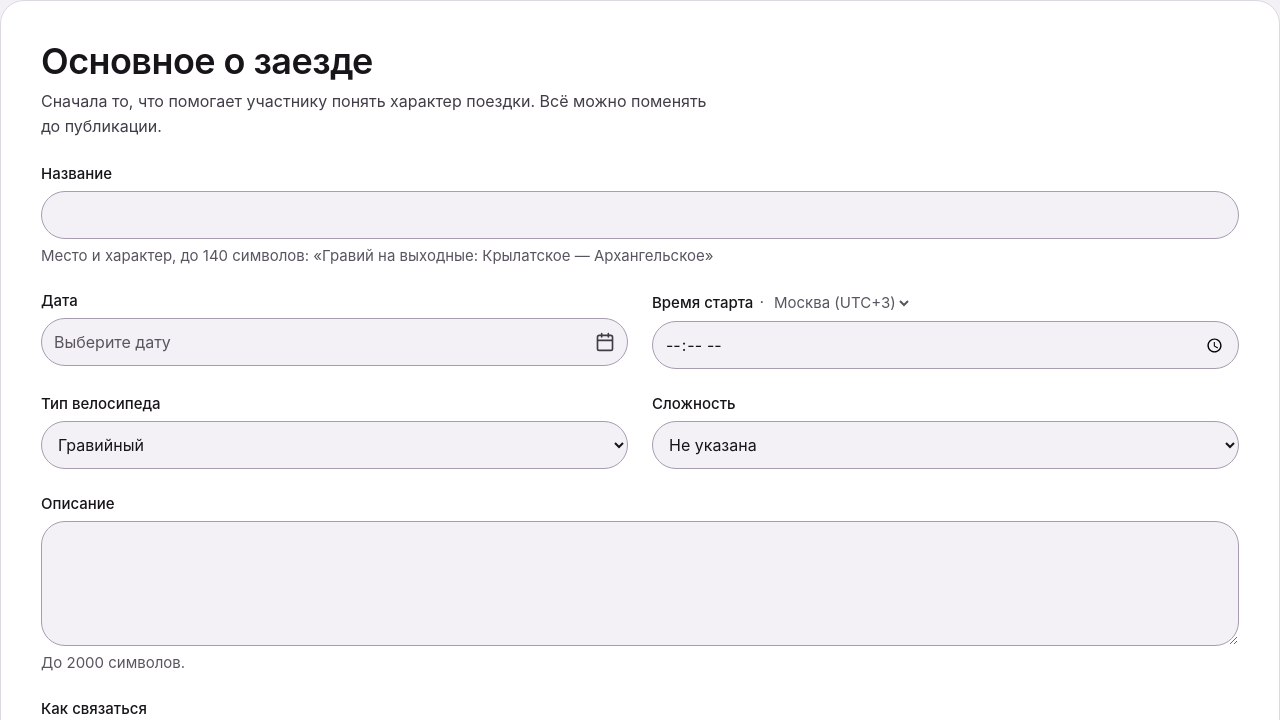
it: CreateRideForm › maps a server validation error onto the matching field
This screenshot has width=1280, height=720.
Type "Утренний гравийный заезд" into the field labelled "Название".
click(640, 215); type("Утренний гравийный заезд")  # box [41, 191, 1239, 239]
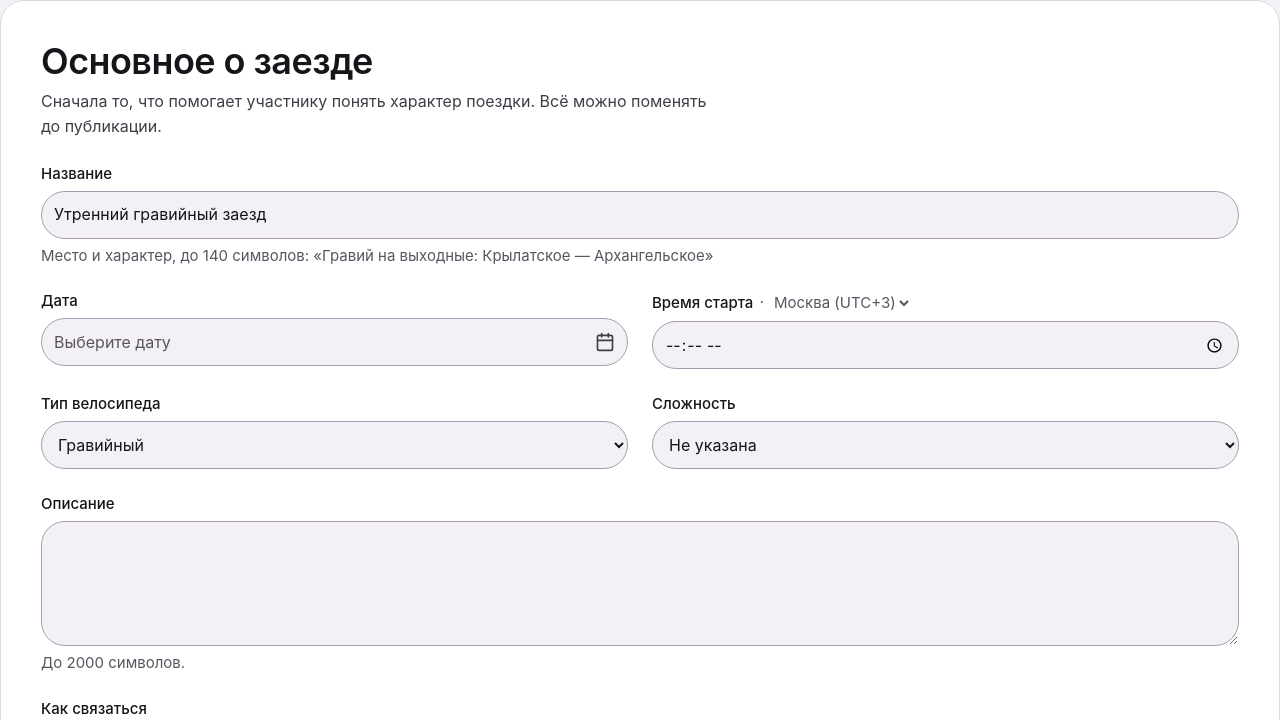
Click the button named "Дата".
click(112, 342)  # box [41, 318, 628, 366]
(page scrolled)
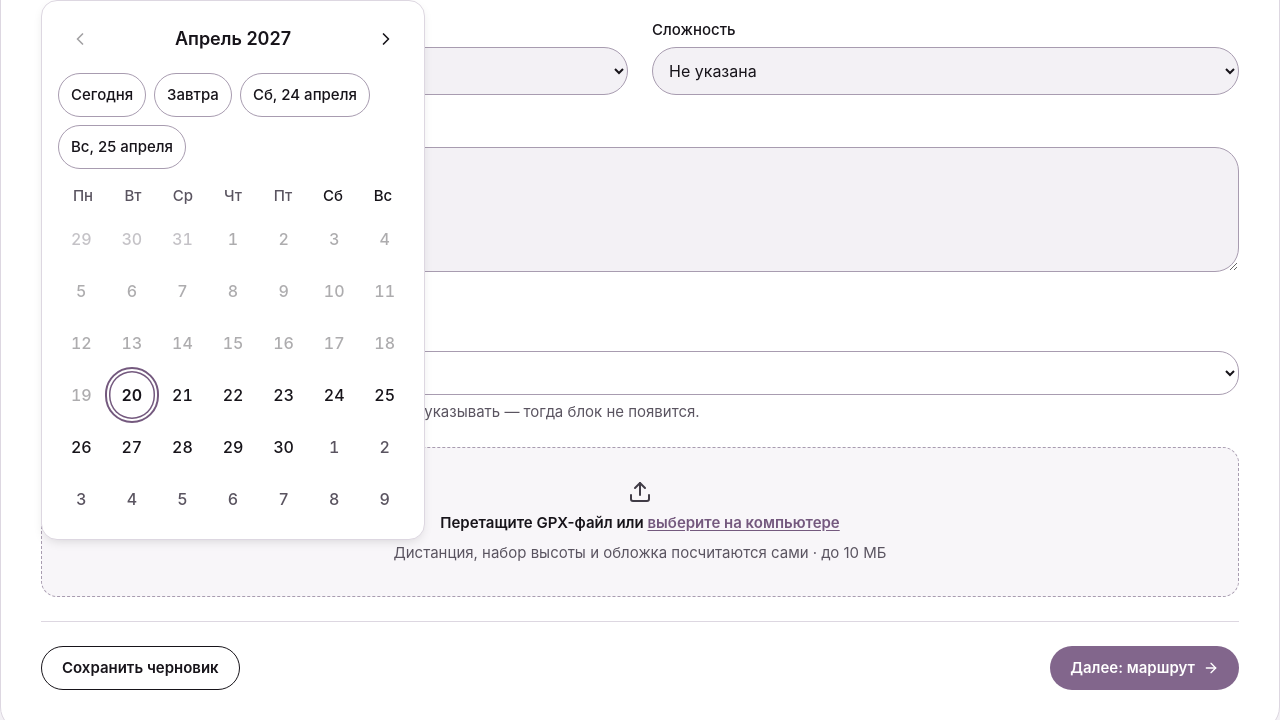
Click the button named "Следующий месяц".
click(386, 39)  # box [364, 17, 408, 61]
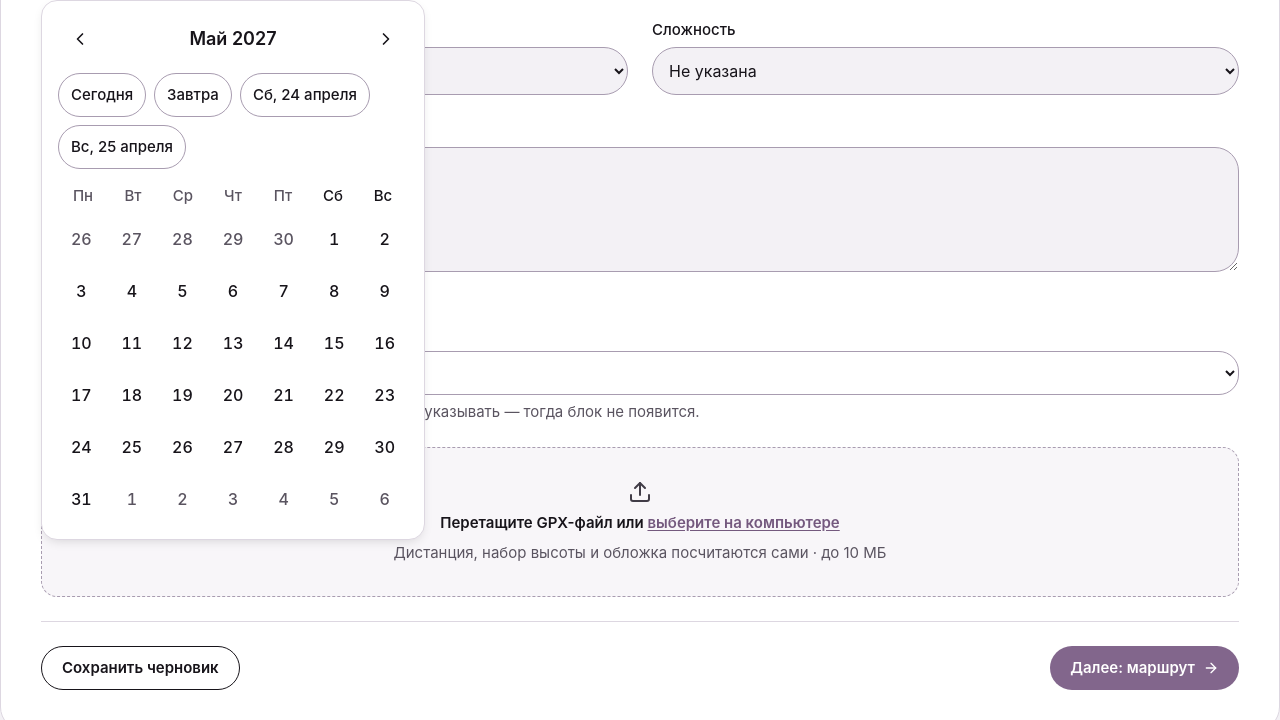
Click the button named "Сб, 1 мая 2027".
click(334, 239)  # box [311, 215, 357, 263]
(page scrolled)
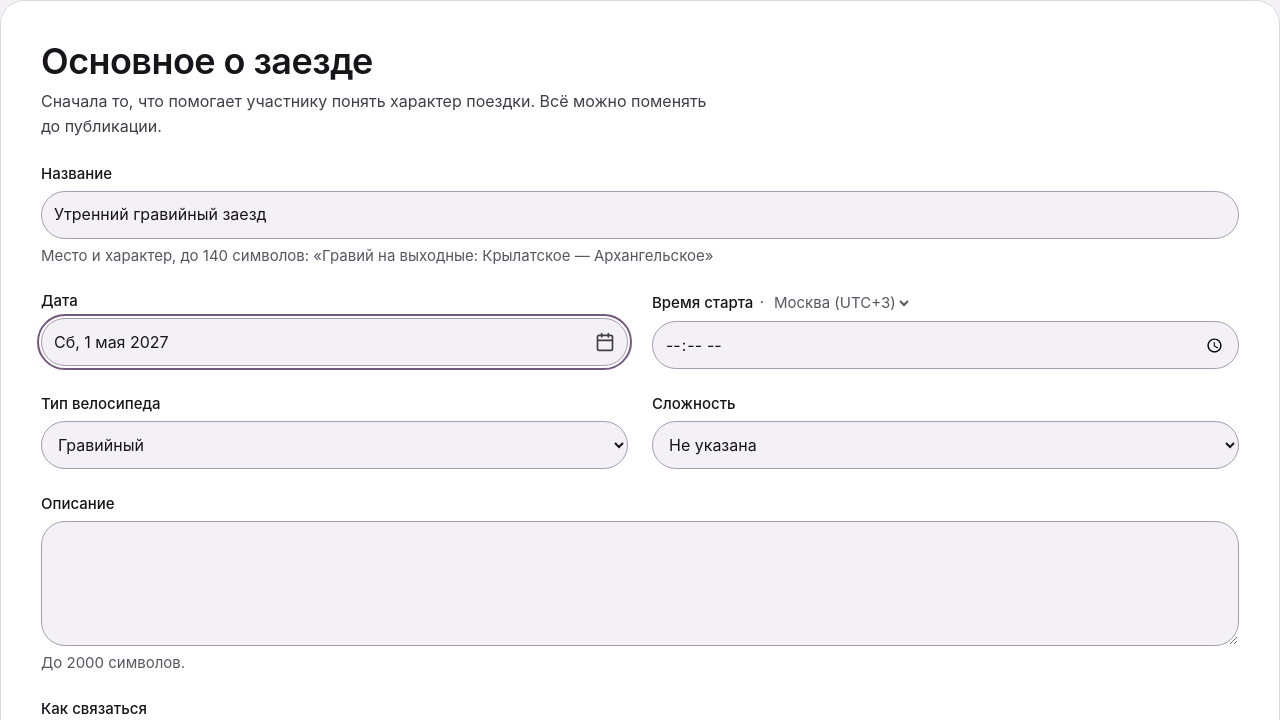
Type "08:00" into the time field labelled "Время старта".
click(946, 345); type("08:00")  # box [652, 321, 1239, 369]
(page scrolled)
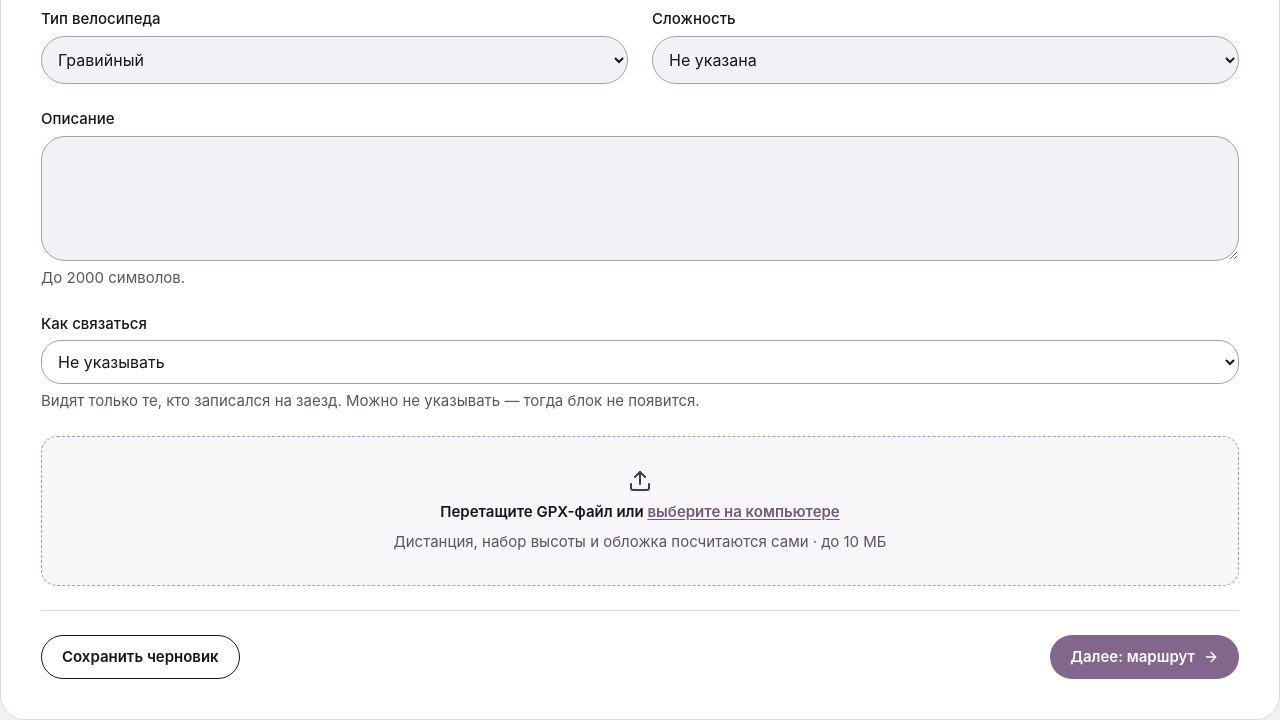
Click the button "Далее: маршрут".
click(1145, 657)  # box [1050, 635, 1239, 679]
(page scrolled)
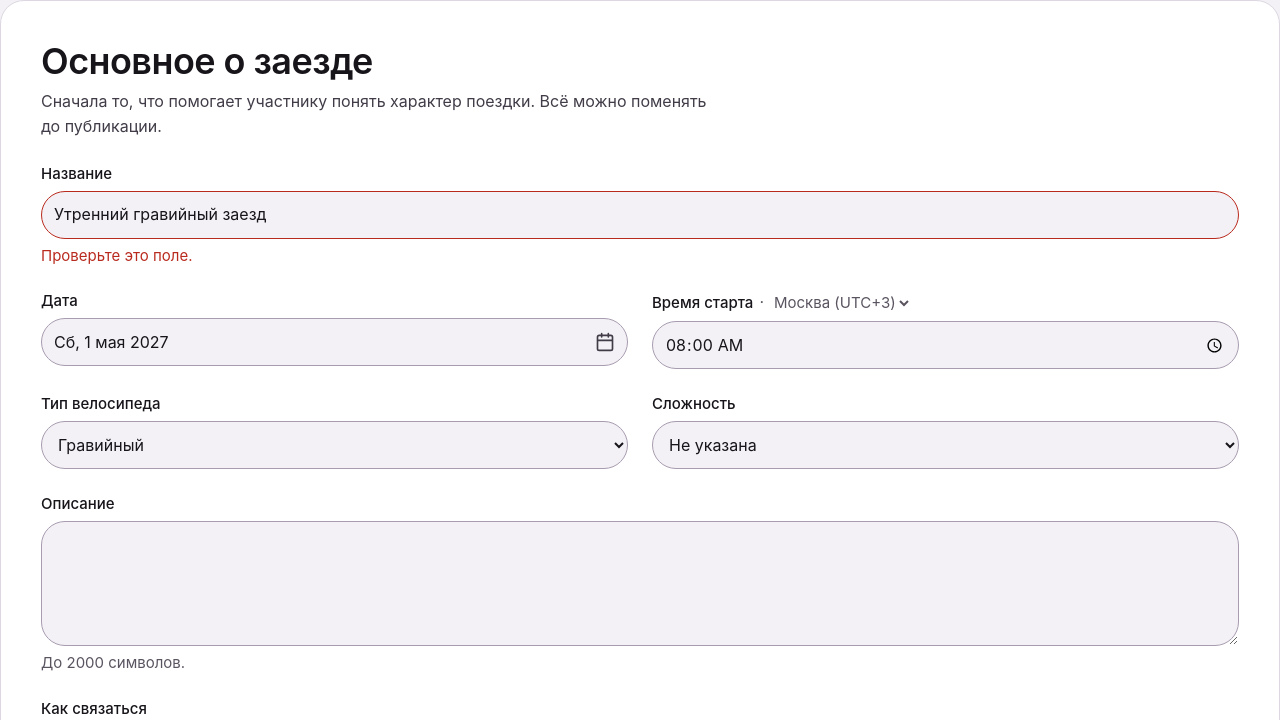
Now the text "Проверьте это поле." is shown, box [41, 246, 192, 265]
